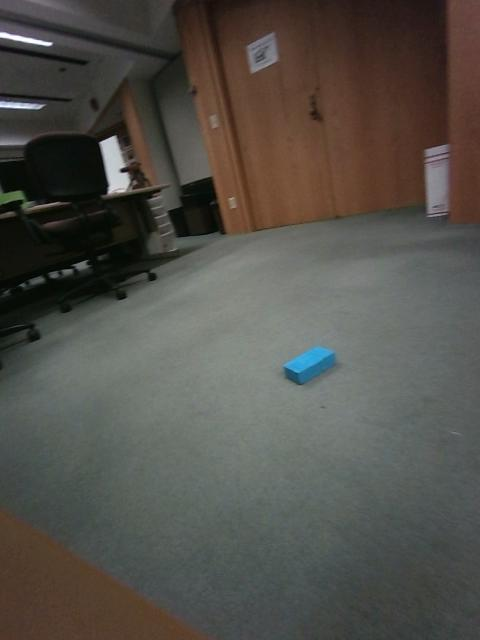block: (257, 358, 333, 440)
